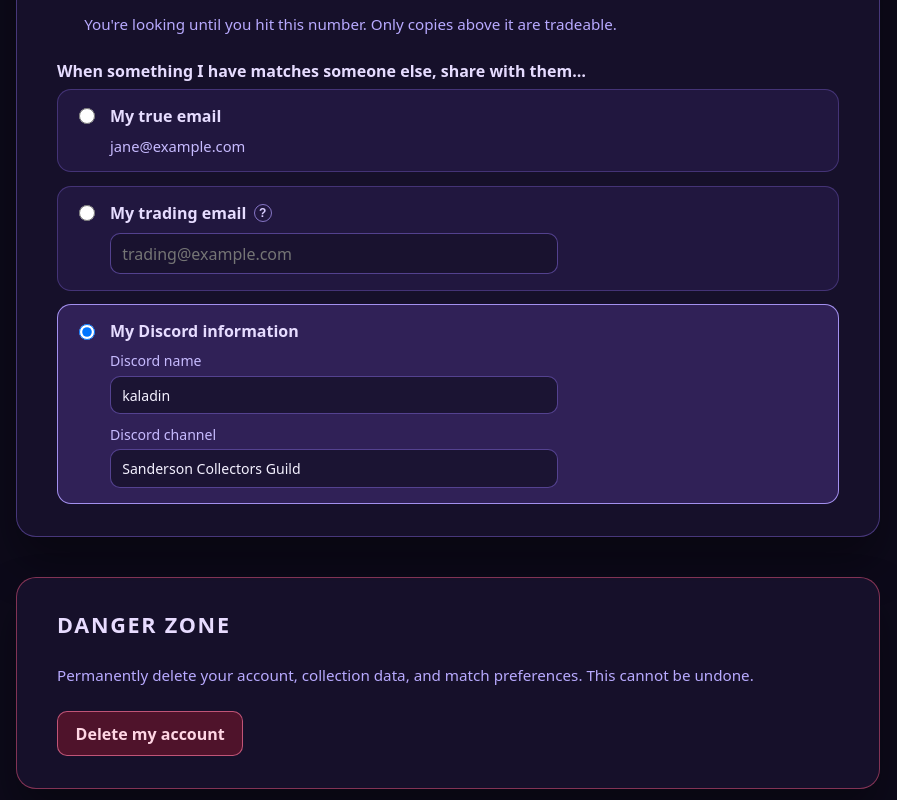
Test case: AccountPage › resets sharing to true email when the selected Discord name is cleared
(page scrolled)
Expected: the radio button labelled "My Discord information" is checked, [79, 324, 95, 340]
Clear the field labelled "Discord name" at (334,395), box [110, 376, 558, 414]
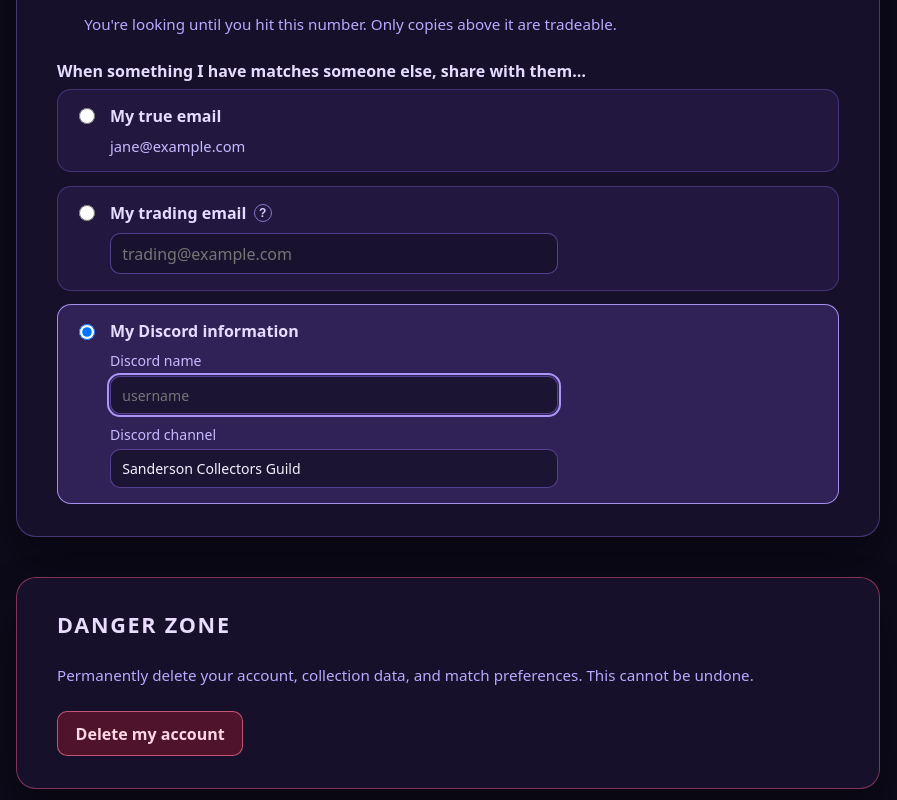
Press Tab
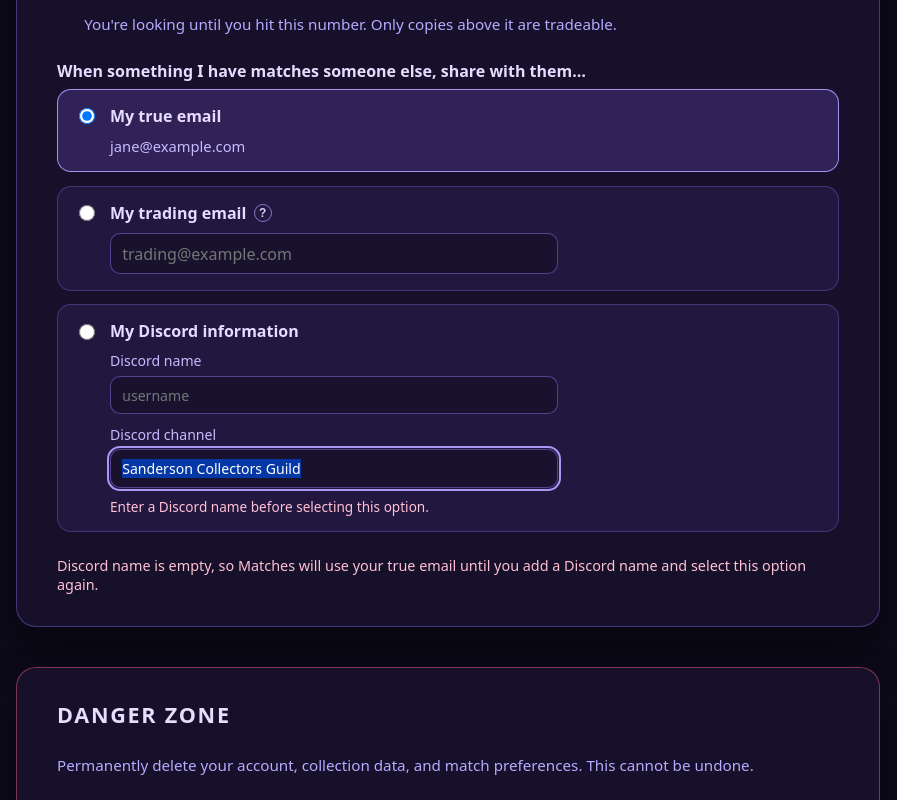
Now the radio button labelled "My true email" is checked, box [79, 108, 95, 124]
